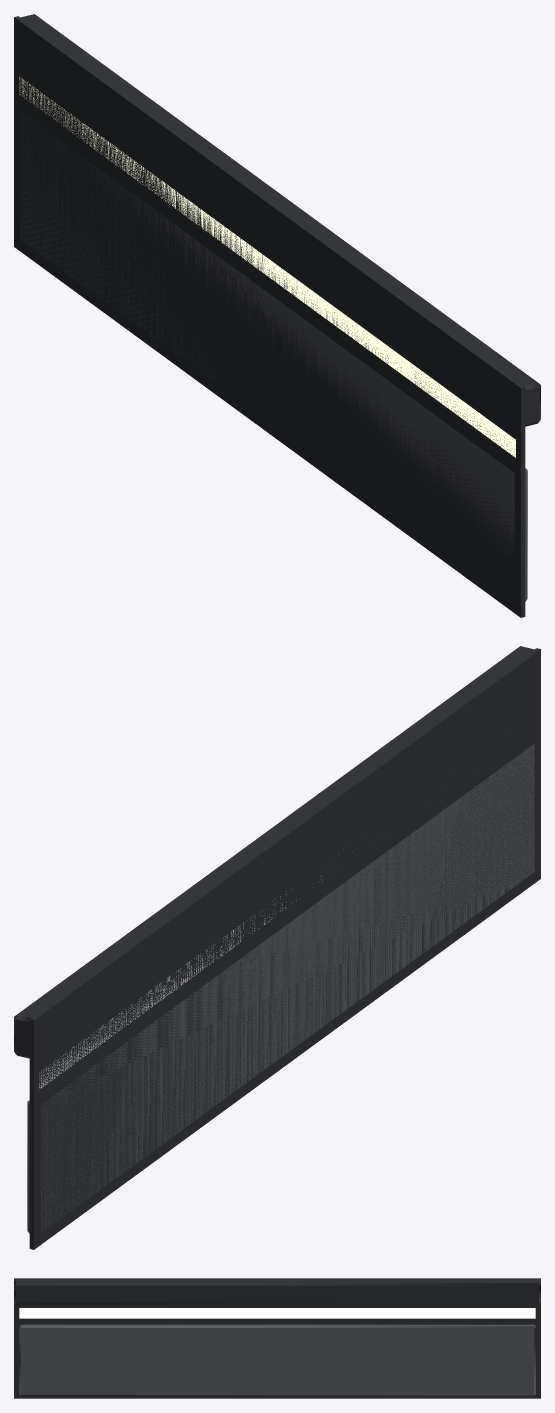
The model's file is SM_H_BandAccent.fbx.
3 renders of one model, top to bottom at view 1: azimuth 30°, elevation 25°; view 2: azimuth 150°, elevation 25°; view 3: azimuth 270°, elevation 25°, orthographic. The views are drawn at different scales.
Parts seen in each view (by area): view 1: SM_H_BandAccent; view 2: SM_H_BandAccent; view 3: SM_H_BandAccent.
Boxes of the visible parts, <box> form: SM_H_BandAccent: <box>14,14,540,617</box>; SM_H_BandAccent: <box>14,646,540,1249</box>; SM_H_BandAccent: <box>14,1278,540,1398</box>.
Size of the model in its own units: 10 by 400 by 100.
